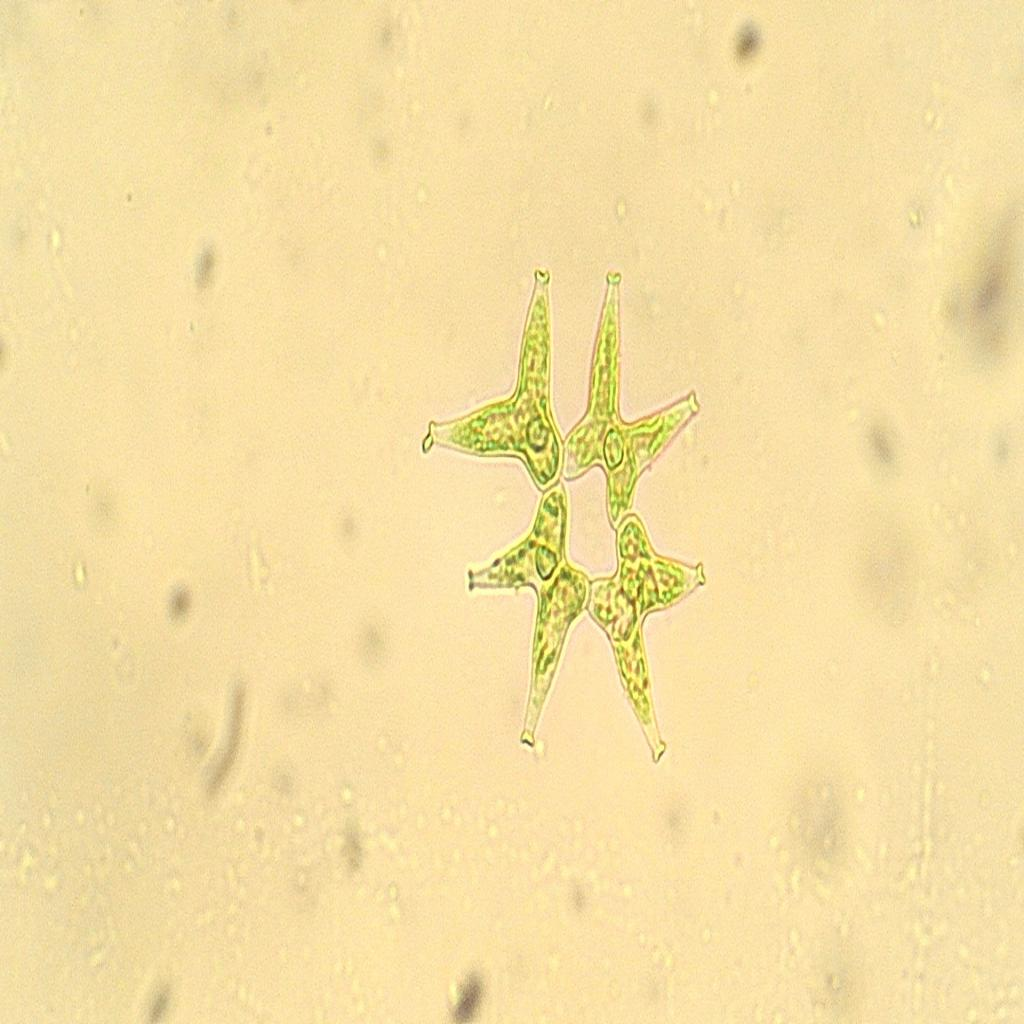Pediastrum_CT: (422, 252, 732, 794)
